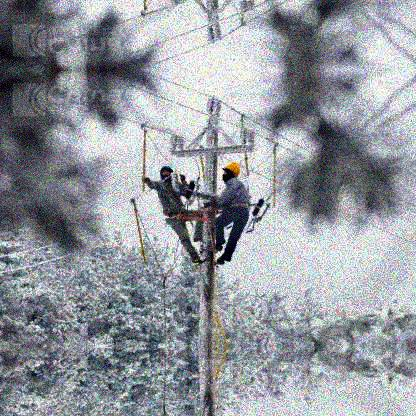helmet: (222, 161, 241, 183), (159, 165, 174, 180)
